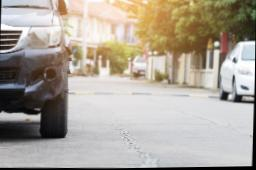Bumper: (24, 47, 70, 103)
